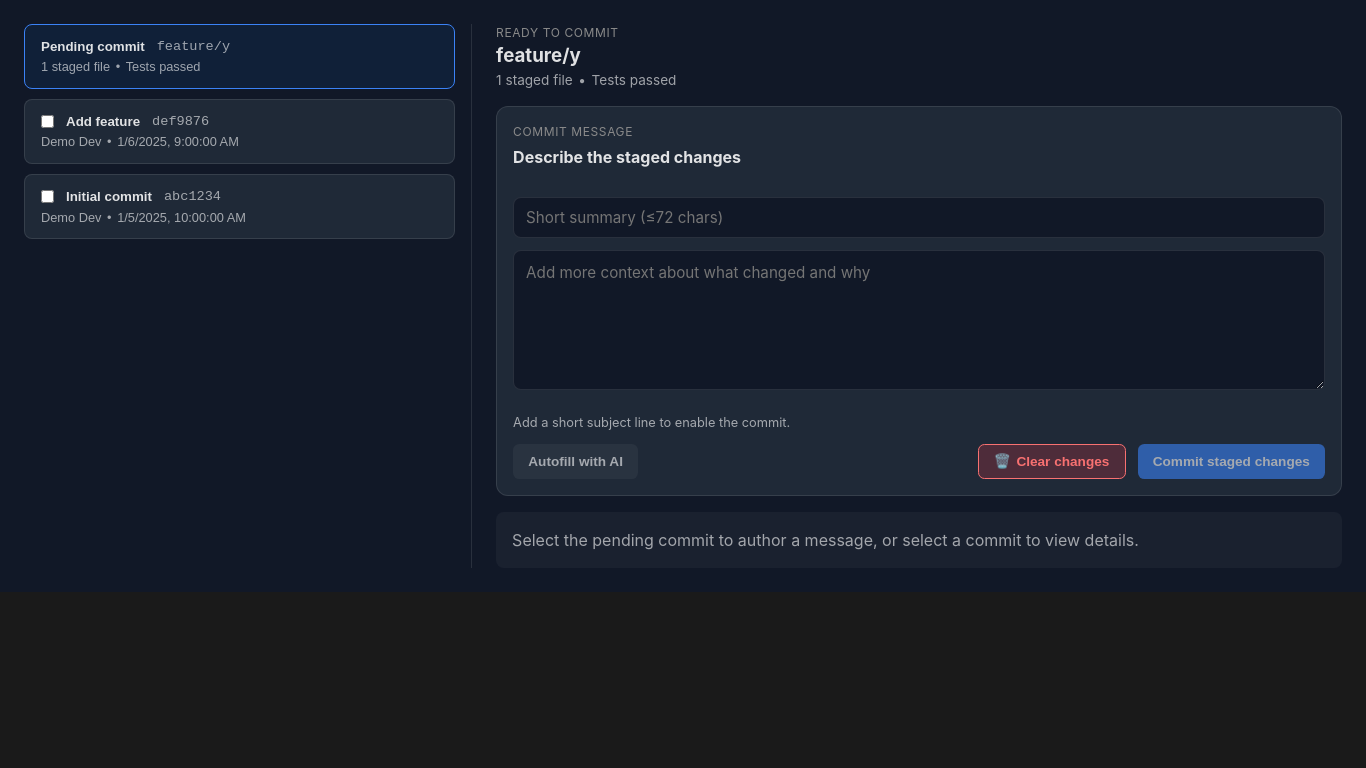
Test: CommitsTab › hides the commit composer when a real commit is selected
Step 1. Click the button with test id "commit-abc1234" → {"x": 240, "y": 207}, box [24,174,455,239]
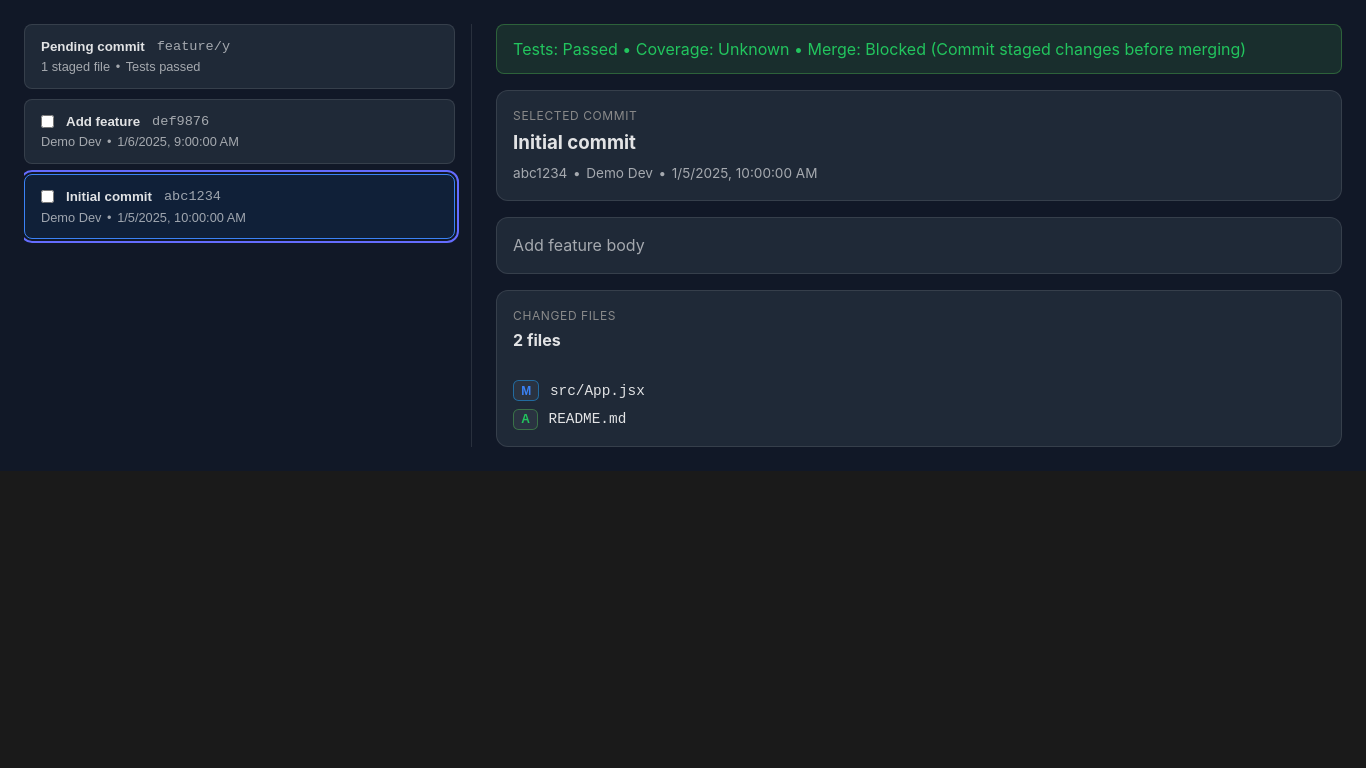
expect the element with test id "commit-pending-header" is gone: met
expect the field with test id "branch-commit-subject" is gone: met
expect the heading "Initial commit" is shown: met, box [513,131,636,154]
